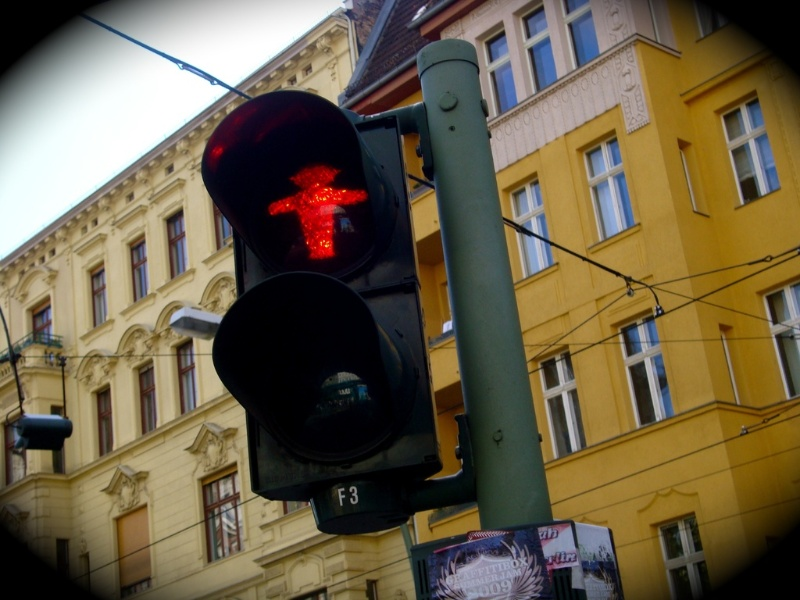red_light: (164, 89, 444, 287)
